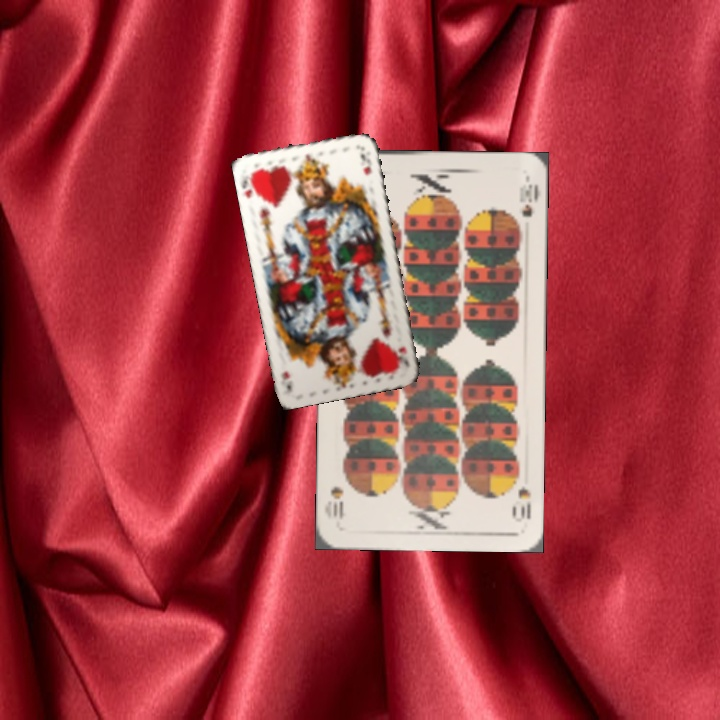HK: (238, 167, 260, 201), (393, 342, 413, 367)
S10: (508, 467, 534, 525)
